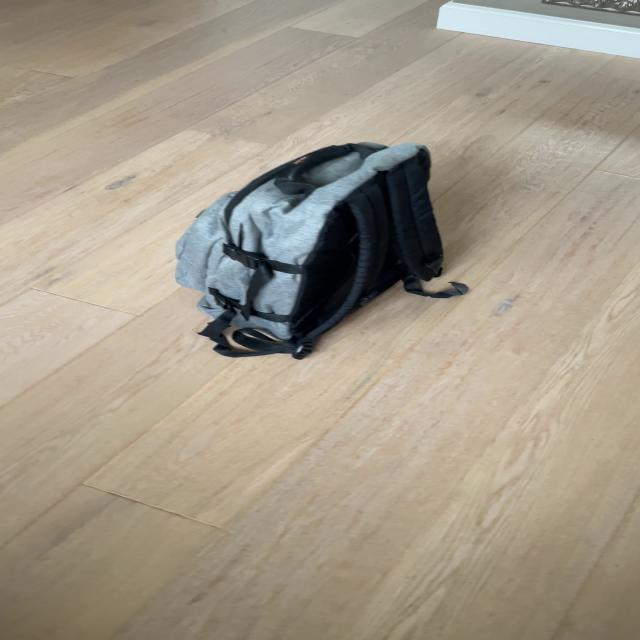backpack: (161, 130, 452, 364)
